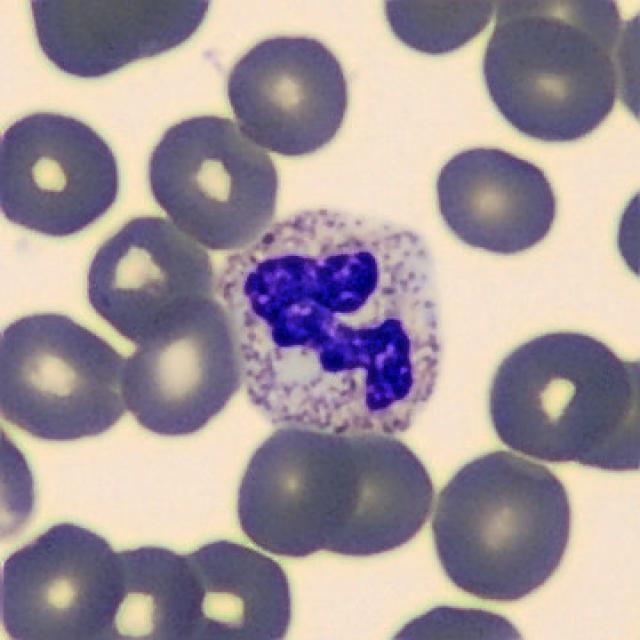Neutrofilo segmentado: (212, 208, 443, 437)
